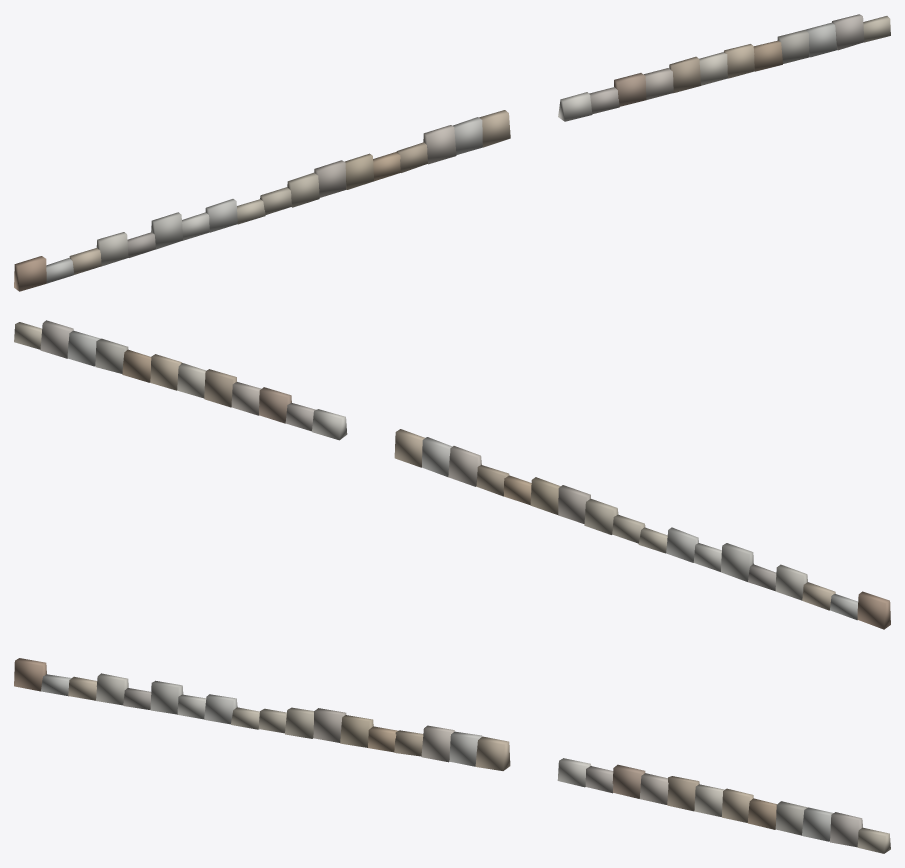
File: farm_16_7_far.glb
The picture shows the model from 3 angles, top to bottom: view 1: azimuth 30°, elevation 25°; view 2: azimuth 150°, elevation 25°; view 3: azimuth 330°, elevation 25°; orthographic projection. The views are drawn at different scales.
Visible parts, largest first — view 1: geometry_0; view 2: geometry_0; view 3: geometry_0.
Boxes of the visible parts, box(x1,y1,x2,y2) form: geometry_0: box(14, 14, 890, 291); geometry_0: box(14, 320, 890, 629); geometry_0: box(14, 658, 890, 853).
Size of the model in its own units: 50.12 by 4.64 by 2.1.
